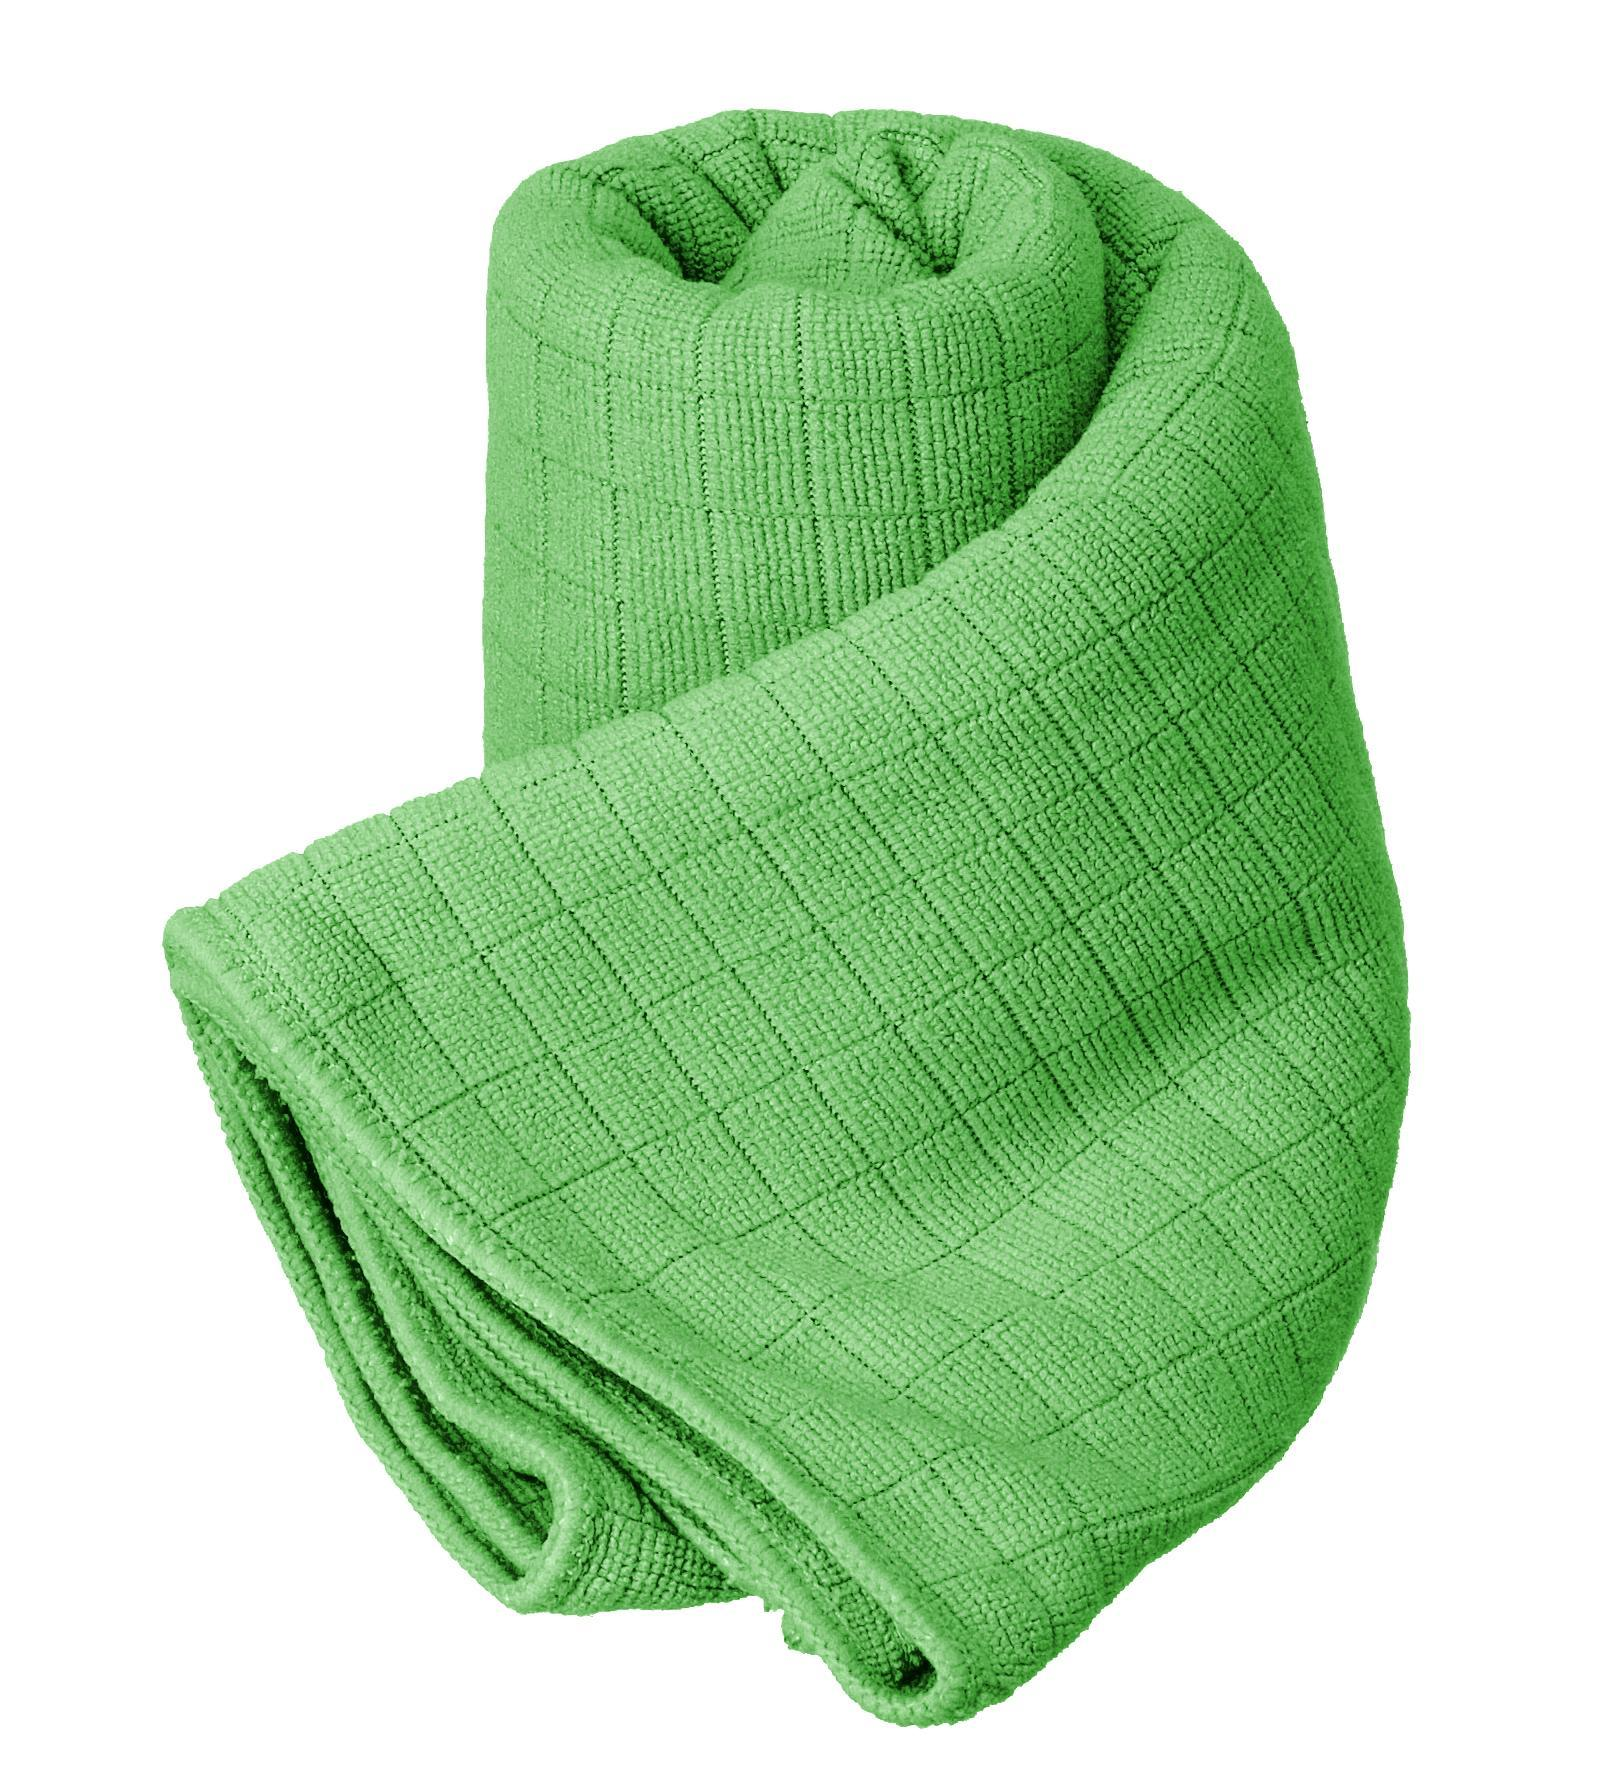towel: (160, 40, 1466, 1791)
